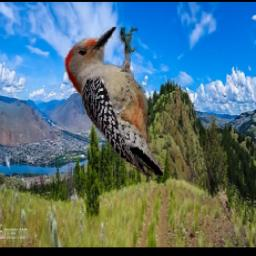Woodpecker: (65, 28, 164, 176)
